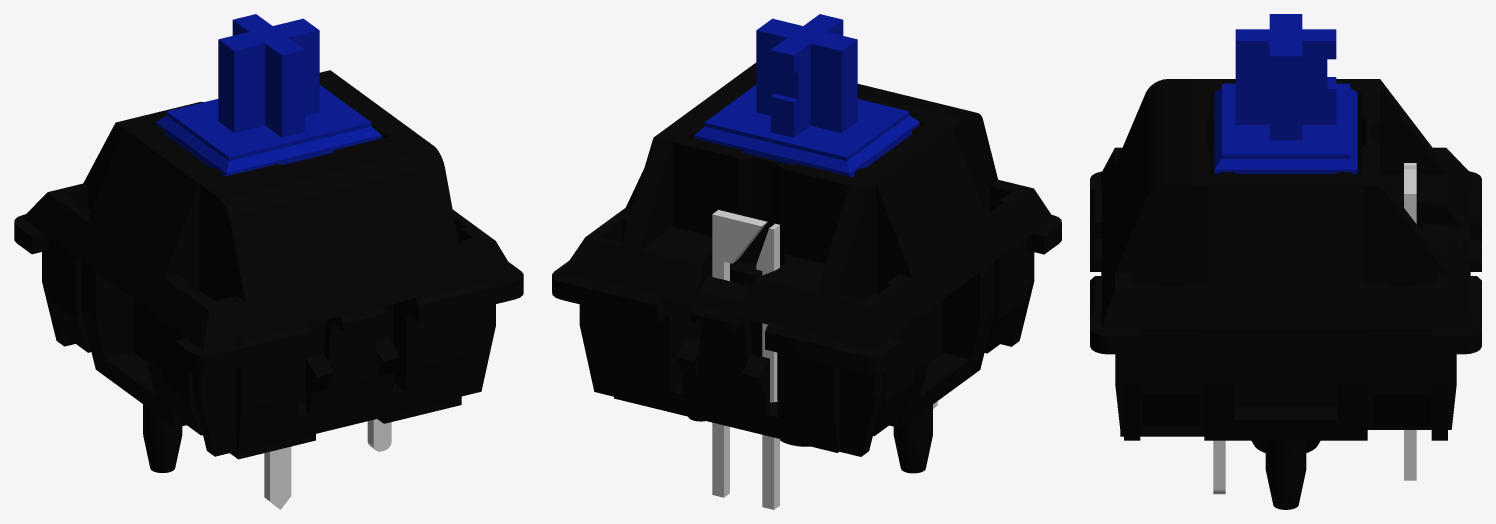
The model's file is blue.glb.
The picture shows the model from 3 angles, left to right: view 1: azimuth 30°, elevation 25°; view 2: azimuth 150°, elevation 25°; view 3: azimuth 270°, elevation 25°; orthographic projection. The views are drawn at different scales.
Parts seen in each view (by area): view 1: Mid Top, Mid Bottom, Mid Switch, Mid LED; view 2: Mid Top, Mid Bottom, Mid Switch, Mid LED; view 3: Mid Top, Mid Bottom, Mid Switch, Mid LED.
Part boxes in pixels (x1,y1,x2,y2): Mid Top: (22,70,515,435); Mid Bottom: (14,214,523,472); Mid Switch: (156,14,381,176); Mid LED: (264,419,391,509); Mid Top: (560,62,1053,436); Mid Bottom: (552,215,1061,473); Mid Switch: (694,14,919,177); Mid LED: (712,210,937,509); Mid Top: (1101,79,1470,426); Mid Bottom: (1090,171,1481,509); Mid Switch: (1214,14,1357,173); Mid LED: (1213,163,1416,494).
Bounding box in the file's own units: 0.3613 × 0.4377 × 0.3613.
